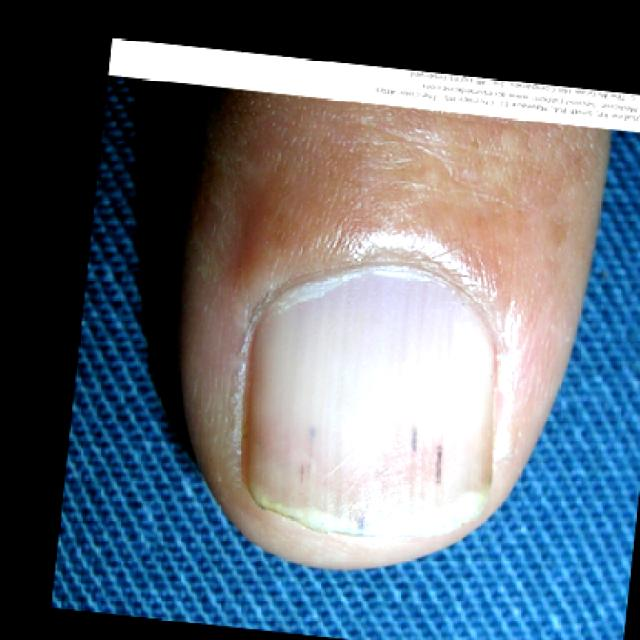Nail: (242, 267, 495, 542)
